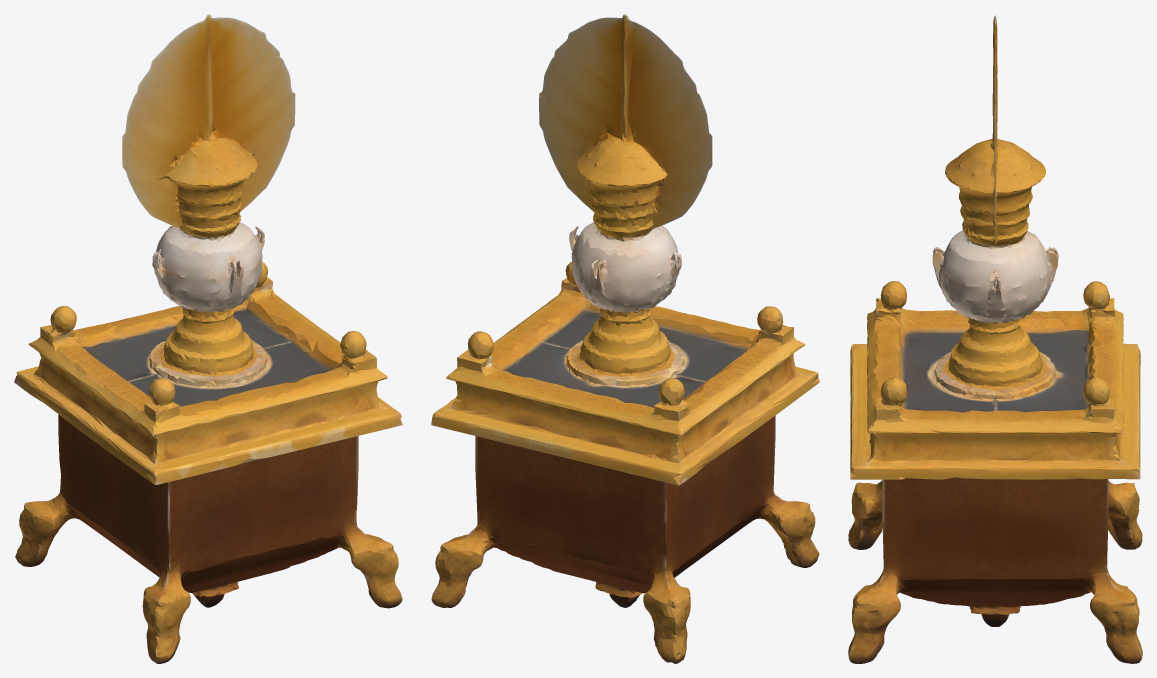
File: enlightenment_quill.glb
The picture shows the model from 3 angles, left to right: view 1: azimuth 30°, elevation 25°; view 2: azimuth 150°, elevation 25°; view 3: azimuth 270°, elevation 25°; orthographic projection. The views are drawn at different scales.
Visible parts, largest first — view 1: enlightenment_quill; view 2: enlightenment_quill; view 3: enlightenment_quill.
Part boxes in pixels (<box>): enlightenment_quill: <box>14,14,402,663</box>; enlightenment_quill: <box>431,14,819,663</box>; enlightenment_quill: <box>848,14,1142,663</box>.
Bounding box in the file's own units: 0.8323 × 1.9 × 0.8293.
Materials: 1 (1 with a texture image).
